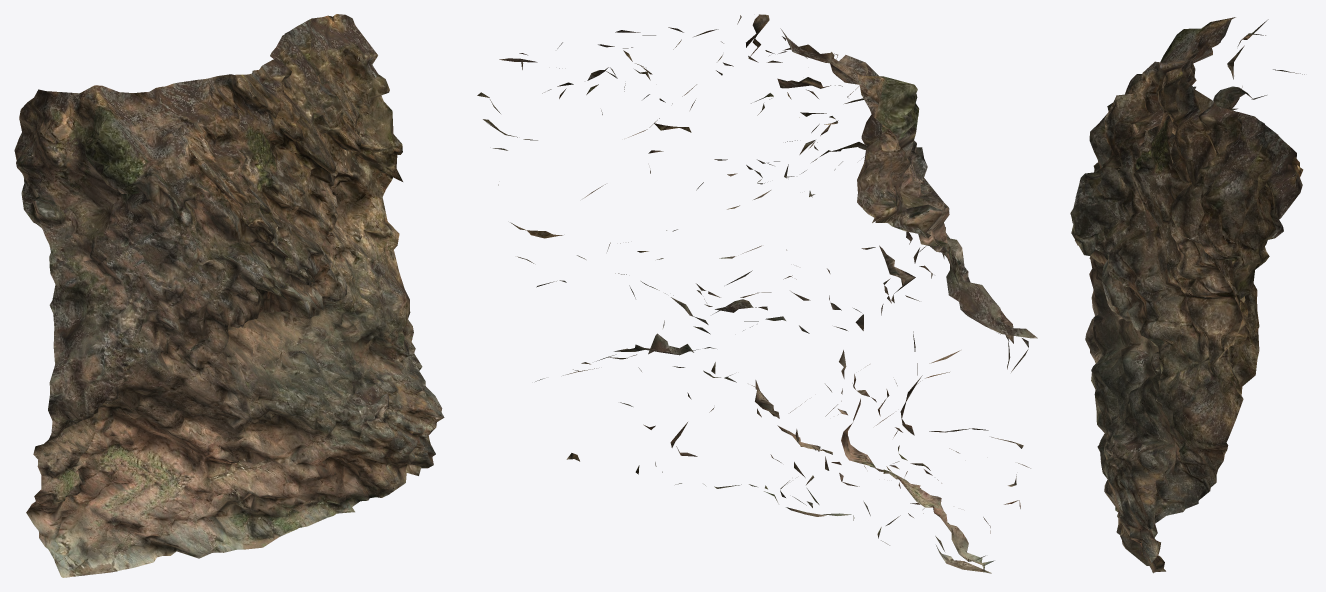
Rendered from hill_crag.glb.
3 views of the same model, side by side, from view 1: azimuth 30°, elevation 25°; view 2: azimuth 150°, elevation 25°; view 3: azimuth 270°, elevation 25° (orthographic). The views are drawn at different scales.
Visible parts, largest first — view 1: hill_crag; view 2: hill_crag; view 3: hill_crag.
Part boxes in pixels (x1,y1,x2,y2): hill_crag: (14,14,444,577); hill_crag: (477,14,1037,573); hill_crag: (1070,17,1304,573).
Bounding box in the file's own units: 10.2 × 10.52 × 5.25.
1 material, 1 textured.
